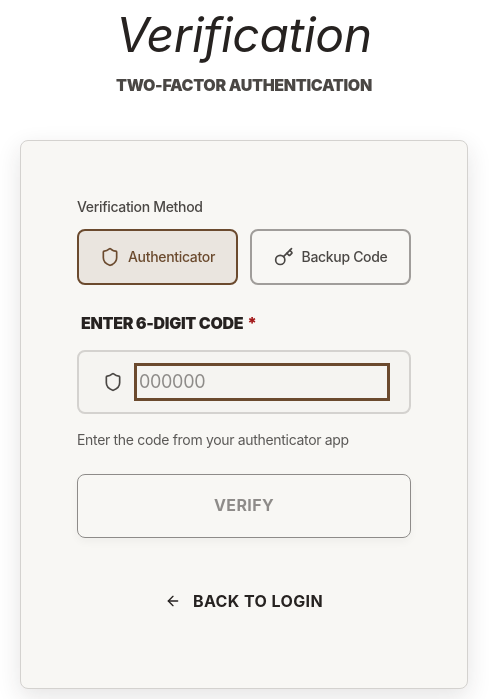
MfaVerificationPage › method switching › should switch to backup code input when backup code method is selected
This screenshot has width=489, height=699.
Click the button "Backup Code" at [330, 257], box [250,229,411,285]
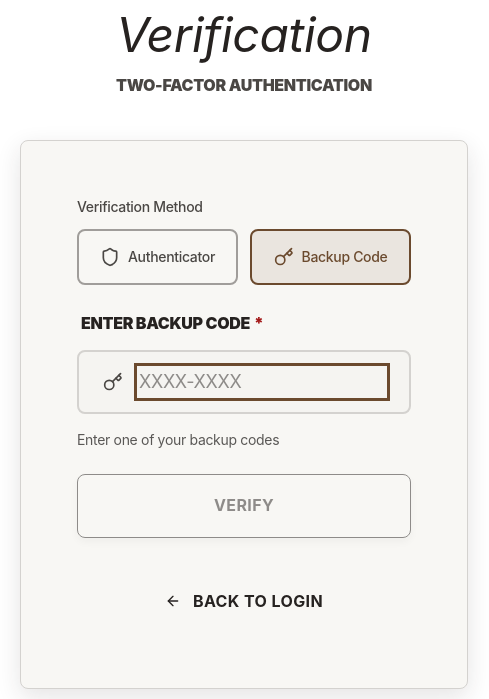
Expected: the field with placeholder "XXXX-XXXX" is shown, [139,368,385,396]
